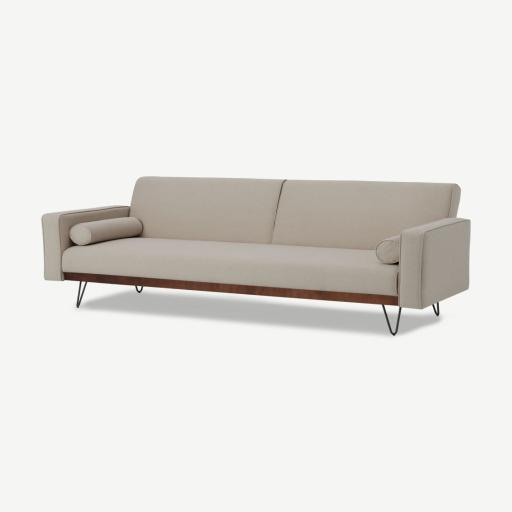back_cushion: (132, 177, 456, 249)
base: (65, 273, 398, 305)
left_arm: (398, 218, 470, 308)
legs: (382, 305, 401, 335), (76, 281, 87, 308), (434, 303, 439, 315), (136, 286, 143, 292)
right_arm: (43, 206, 129, 280)
seat_cushion: (63, 238, 397, 298)
two-seater: (0, 0, 511, 512)
